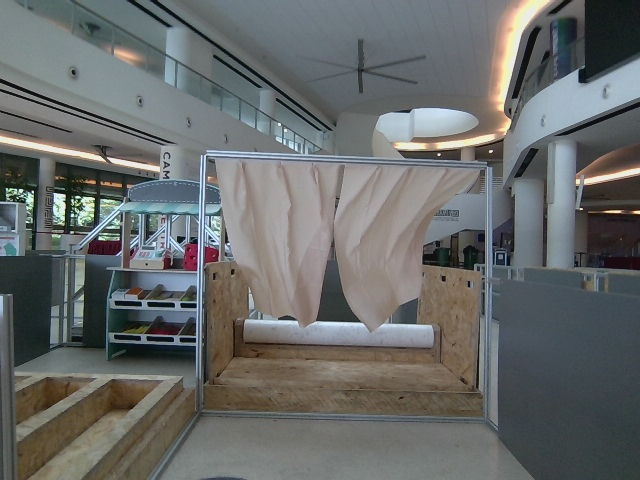curtain: (211, 154, 480, 326)
